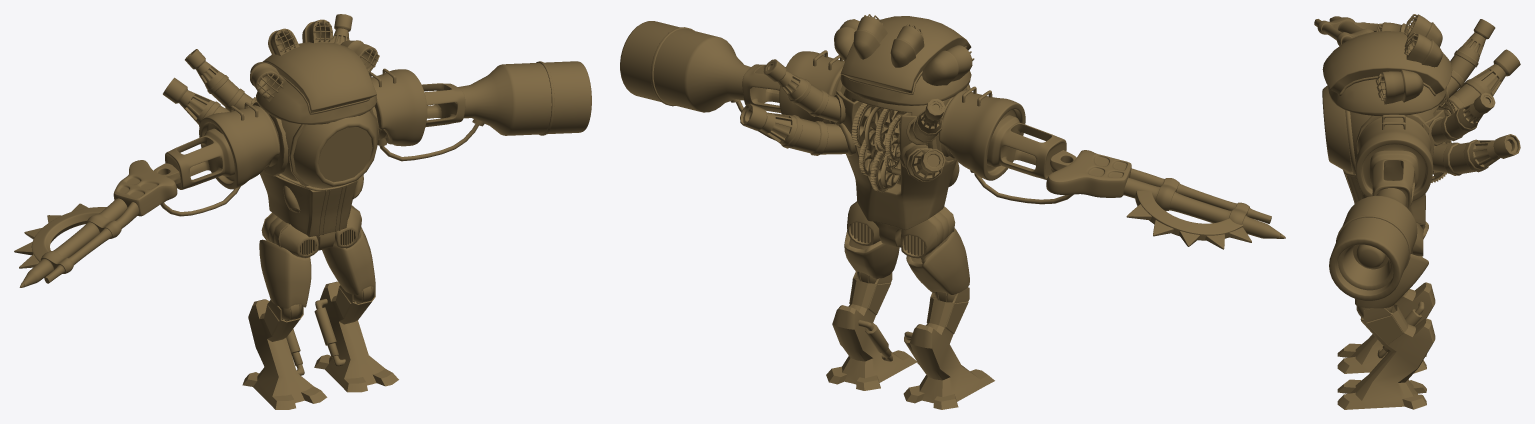
Rendered from Robot.gltf.
3 renders of one model, left to right at view 1: azimuth 30°, elevation 25°; view 2: azimuth 150°, elevation 25°; view 3: azimuth 270°, elevation 25°, orthographic. The views are drawn at different scales.
Parts seen in each view (by area): view 1: Object_14, Plane.002, Cylinder, Object_30, Cube.003, Cube.001, Object_40, Plane, Object_9, Object_9.002, Object_7.002, Object_7.005 (+2 smaller); view 2: Object_14, Plane.002, Object_30, Cylinder, Object_9, Cube.003, Plane, Object_9.002, Object_40, Object_7.002, Object_7.005, Object_18 (+2 smaller); view 3: Plane.002, Cylinder, Object_9, Cube.003, Object_14, Object_9.002, Cube.001, Object_40, Object_30, Plane, Object_12.001, Object_7.005 (+2 smaller).
Boxes of the visible parts, x1=… form: Object_14: x1=165, y1=68, x2=465, y2=189; Plane.002: x1=242, y1=281, x2=398, y2=409; Cylinder: x1=458, y1=61, x2=591, y2=135; Object_30: x1=14, y1=160, x2=177, y2=287; Cube.003: x1=256, y1=42, x2=377, y2=124; Cube.001: x1=281, y1=109, x2=379, y2=188; Object_40: x1=259, y1=227, x2=375, y2=308; Plane: x1=251, y1=99, x2=357, y2=237; Object_9: x1=163, y1=14, x2=352, y2=126; Object_9.002: x1=250, y1=19, x2=379, y2=101; Object_7.002: x1=261, y1=205, x2=361, y2=257; Object_7.005: x1=286, y1=298, x2=345, y2=375; Object_14: x1=742, y1=50, x2=1066, y2=180; Plane.002: x1=826, y1=271, x2=994, y2=409; Object_30: x1=1046, y1=150, x2=1285, y2=249; Cylinder: x1=620, y1=21, x2=750, y2=112; Object_9: x1=740, y1=59, x2=945, y2=181; Cube.003: x1=840, y1=16, x2=971, y2=105; Plane: x1=836, y1=91, x2=956, y2=230; Object_9.002: x1=834, y1=14, x2=974, y2=85; Object_40: x1=844, y1=228, x2=969, y2=294; Object_7.002: x1=847, y1=201, x2=955, y2=258; Object_7.005: x1=858, y1=320, x2=915, y2=361; Object_18: x1=730, y1=99, x2=1073, y2=204; Plane.002: x1=1337, y1=282, x2=1435, y2=409; Cylinder: x1=1329, y1=188, x2=1417, y2=300; Object_9: x1=1428, y1=19, x2=1520, y2=175; Cube.003: x1=1322, y1=31, x2=1452, y2=116; Object_14: x1=1355, y1=114, x2=1433, y2=210; Object_9.002: x1=1375, y1=14, x2=1442, y2=104; Cube.001: x1=1322, y1=85, x2=1439, y2=174; Object_40: x1=1355, y1=221, x2=1428, y2=308; Object_30: x1=1314, y1=16, x2=1381, y2=45; Plane: x1=1346, y1=95, x2=1446, y2=224; Object_12.001: x1=1356, y1=114, x2=1434, y2=157; Object_7.005: x1=1377, y1=301, x2=1424, y2=358.
Bounding box in the file's own units: 4.06 × 2.29 × 1.21.
